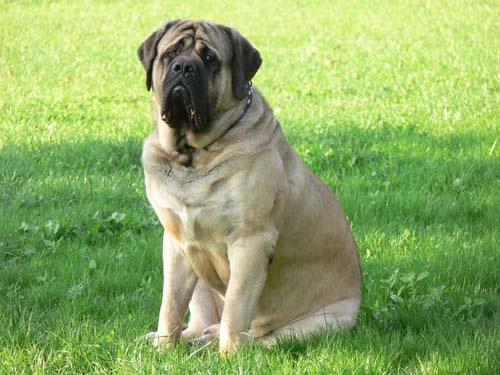mastiff: (136, 18, 364, 355)
